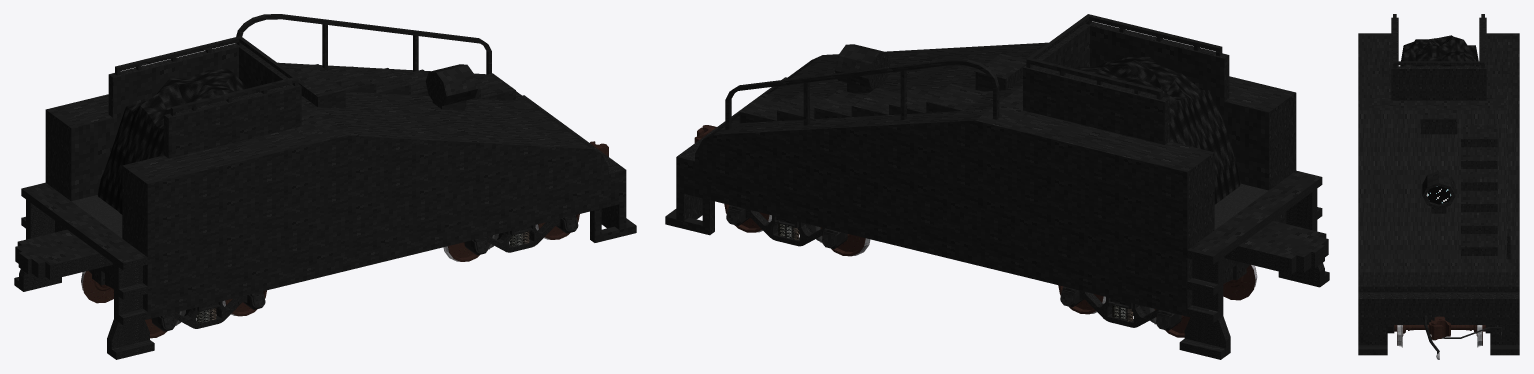
Rendered from a5_tender.obj.
3 renders of one model, left to right at view 1: azimuth 30°, elevation 25°; view 2: azimuth 150°, elevation 25°; view 3: azimuth 270°, elevation 25°, orthographic. The views are drawn at different scales.
Parts seen in each view (by area): view 1: FRAME_Cube.023, COAL.001_Plane.005, BOGEY_FRONT_Cube.037, BOGEY_REAR_Cube.027, BOGEY_FRONT_WHEEL_2_Cylinder.016; view 2: FRAME_Cube.023, COAL.001_Plane.005, BOGEY_FRONT_Cube.037, BOGEY_REAR_Cube.027, BOGEY_FRONT_WHEEL_2_Cylinder.016, BOGEY_REAR_WHEEL_2_Cylinder.011; view 3: FRAME_Cube.023, COAL.001_Plane.005, BACK_COUPLER_Cube.007, BOGEY_REAR_WHEEL_1_Cylinder.014.
Part boxes in pixels (bbox=[...]): FRAME_Cube.023: bbox=[14, 14, 636, 359]; COAL.001_Plane.005: bbox=[97, 68, 251, 214]; BOGEY_FRONT_Cube.037: bbox=[173, 295, 247, 328]; BOGEY_REAR_Cube.027: bbox=[486, 219, 560, 252]; BOGEY_FRONT_WHEEL_2_Cylinder.016: bbox=[81, 270, 176, 338]; FRAME_Cube.023: bbox=[665, 14, 1329, 359]; COAL.001_Plane.005: bbox=[1069, 56, 1241, 204]; BOGEY_FRONT_Cube.037: bbox=[1076, 289, 1172, 327]; BOGEY_REAR_Cube.027: bbox=[743, 208, 839, 246]; BOGEY_FRONT_WHEEL_2_Cylinder.016: bbox=[1154, 264, 1257, 337]; BOGEY_REAR_WHEEL_2_Cylinder.011: bbox=[820, 227, 870, 256]; FRAME_Cube.023: bbox=[1358, 14, 1519, 355]; COAL.001_Plane.005: bbox=[1400, 35, 1479, 66]; BACK_COUPLER_Cube.007: bbox=[1423, 315, 1450, 359]; BOGEY_REAR_WHEEL_1_Cylinder.014: bbox=[1394, 325, 1485, 347].
Bounding box in the file's own units: 10.01 × 3.76 × 3.04.
